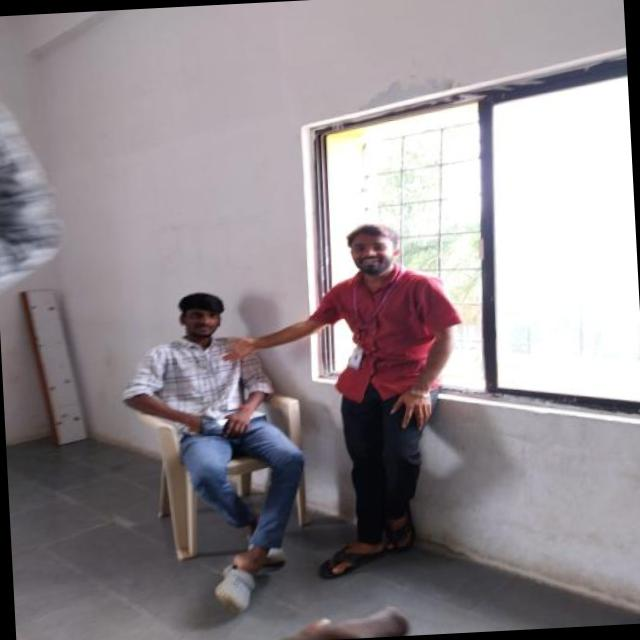id_card: (341, 266, 400, 375)
